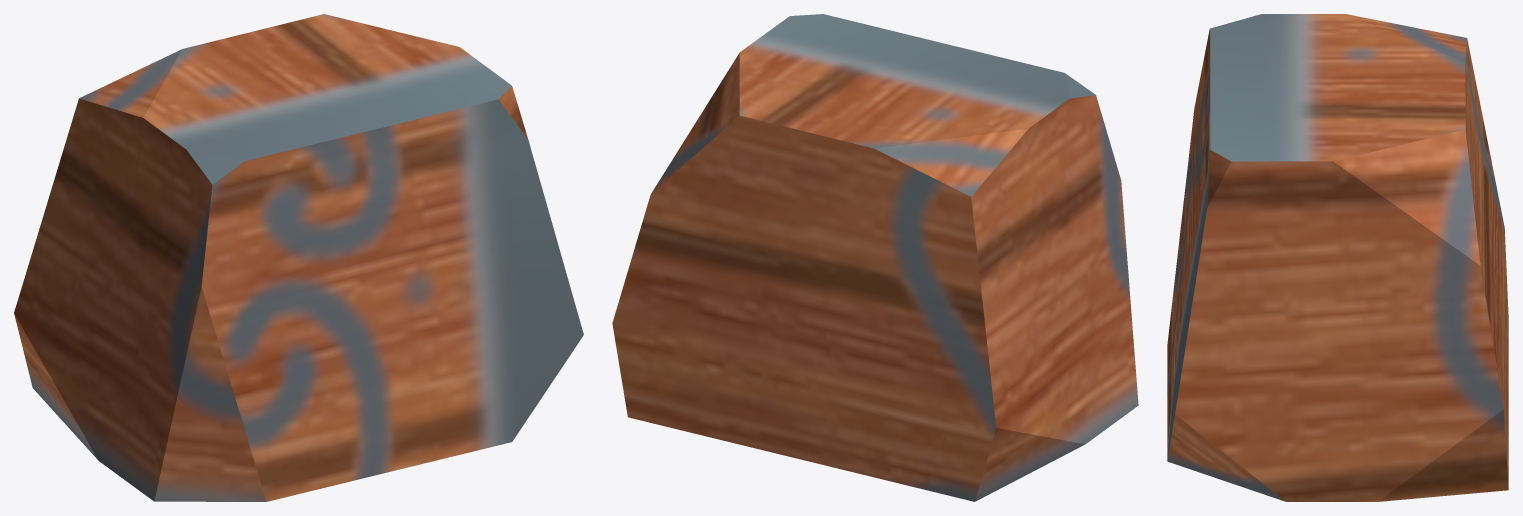
The model's file is Kamen_normal.fbx.
3 renders of one model, left to right at view 1: azimuth 30°, elevation 25°; view 2: azimuth 150°, elevation 25°; view 3: azimuth 270°, elevation 25°, orthographic. The views are drawn at different scales.
Parts seen in each view (by area): view 1: Kamen_normal; view 2: Kamen_normal; view 3: Kamen_normal.
Part boxes in pixels (box(x1,y1,x2,y2)): Kamen_normal: box(14, 14, 583, 501); Kamen_normal: box(612, 14, 1138, 501); Kamen_normal: box(1167, 14, 1508, 501).
Bounding box in the file's own units: 26.3 × 19.68 × 19.27.
